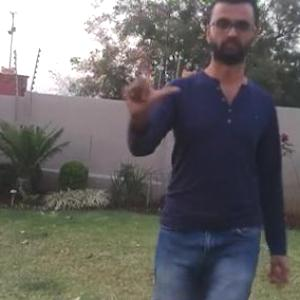land_hand: (118, 45, 182, 113)
